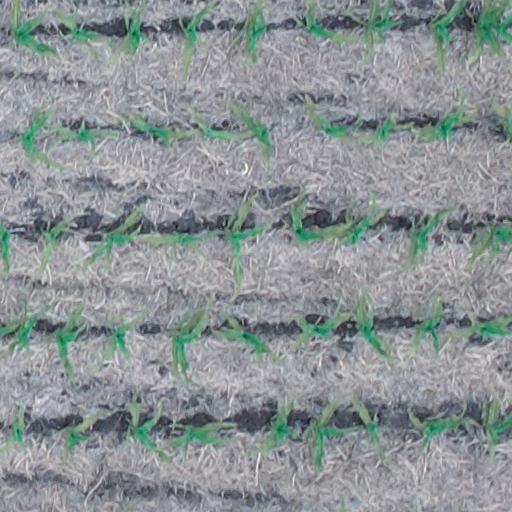planta: (224, 194, 269, 288), (83, 205, 143, 267), (308, 396, 359, 468), (291, 192, 354, 245), (405, 205, 456, 270), (414, 90, 478, 140), (169, 299, 211, 372), (127, 393, 169, 462), (408, 398, 467, 446), (54, 9, 111, 58), (350, 289, 390, 358), (19, 107, 63, 169), (52, 301, 87, 378), (227, 102, 273, 158), (171, 420, 235, 460), (213, 311, 271, 355), (258, 394, 300, 453), (336, 196, 384, 247), (304, 95, 357, 141), (48, 120, 121, 153), (293, 306, 350, 346), (129, 112, 196, 146), (37, 214, 74, 273), (101, 312, 145, 361), (408, 295, 443, 356), (352, 113, 415, 145), (442, 308, 511, 336), (484, 394, 511, 458), (63, 411, 101, 456), (352, 396, 381, 449), (193, 113, 247, 141), (132, 229, 216, 247)
